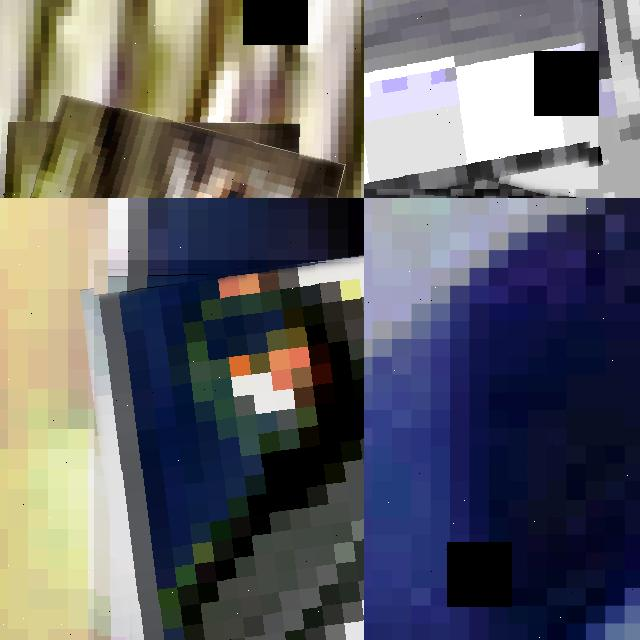arms: (94, 260, 364, 640), (364, 0, 640, 198), (364, 0, 597, 188), (0, 108, 324, 198), (574, 0, 640, 198)
